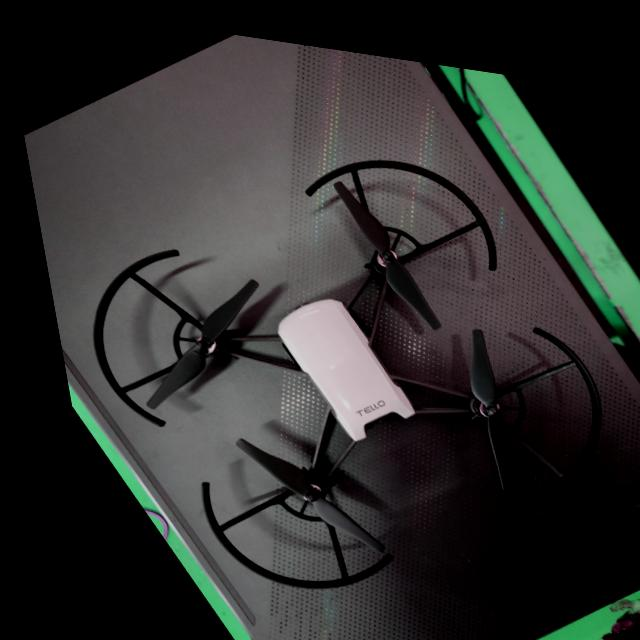drone: (74, 142, 597, 589)
